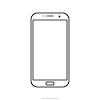Smartphone: (31, 11, 69, 90)
